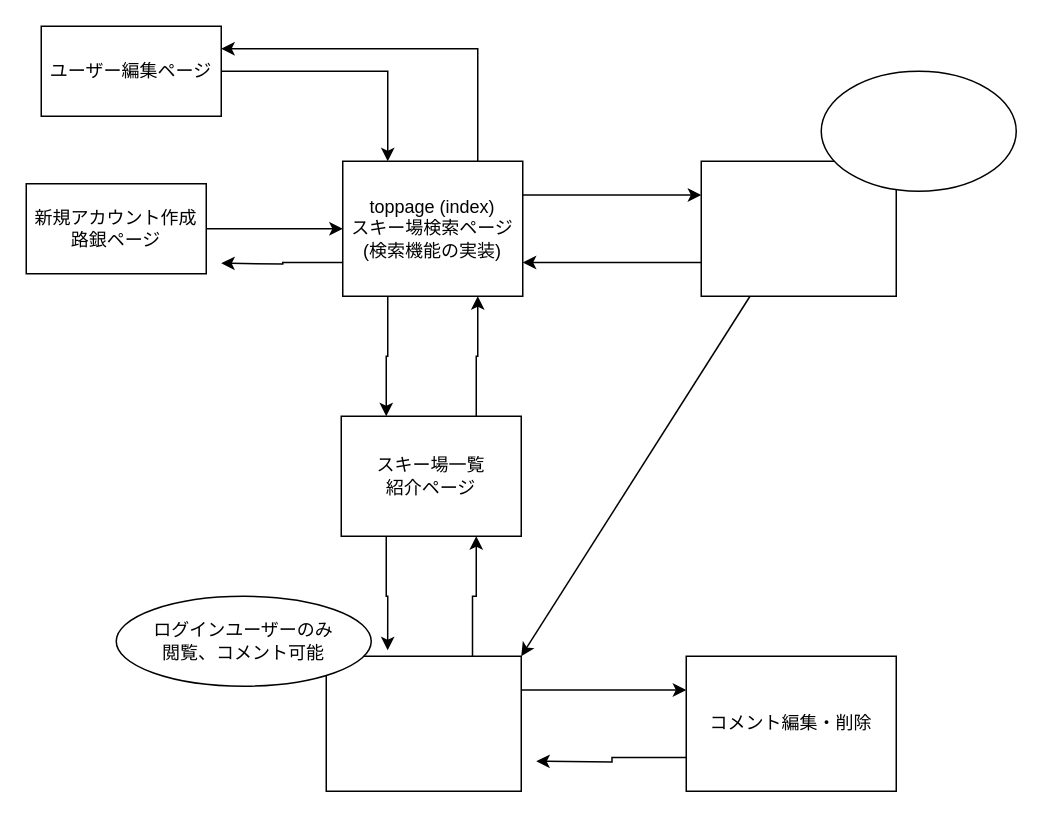
Some shapes in this 1043 by 818 pixel diagram are drawn without their labels. Here are the shapes that lost their labels. From the top down, the centre of each, then its label:
the point at 918,130: ログインユーザーのみ登録可能
the point at 798,228: スキー場登録ページ (正式名称で登録) 写真、紹介文
the point at 423,723: スキー場評価・ コメントページ （状況などユーザーによって自由に）
